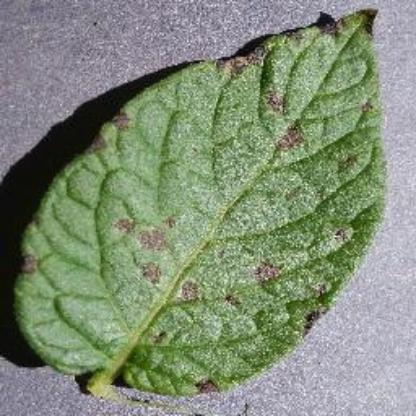Early-Blight: (12, 5, 390, 403)
